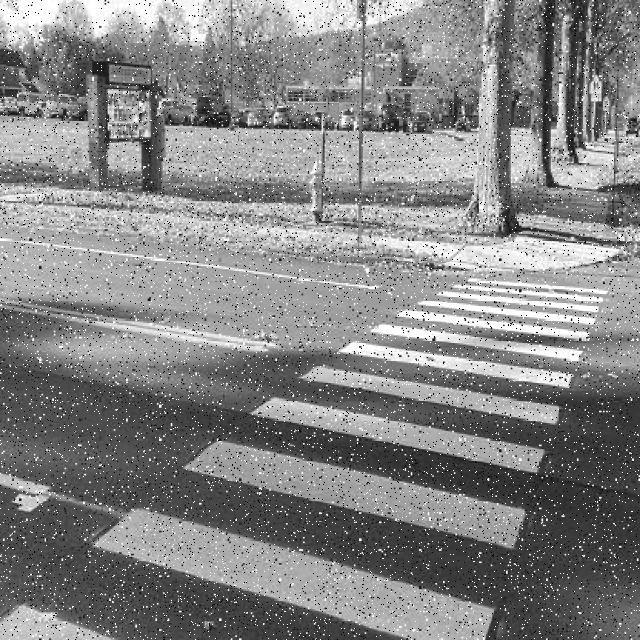Pedestrian crosswalk: (116, 282, 608, 639)
